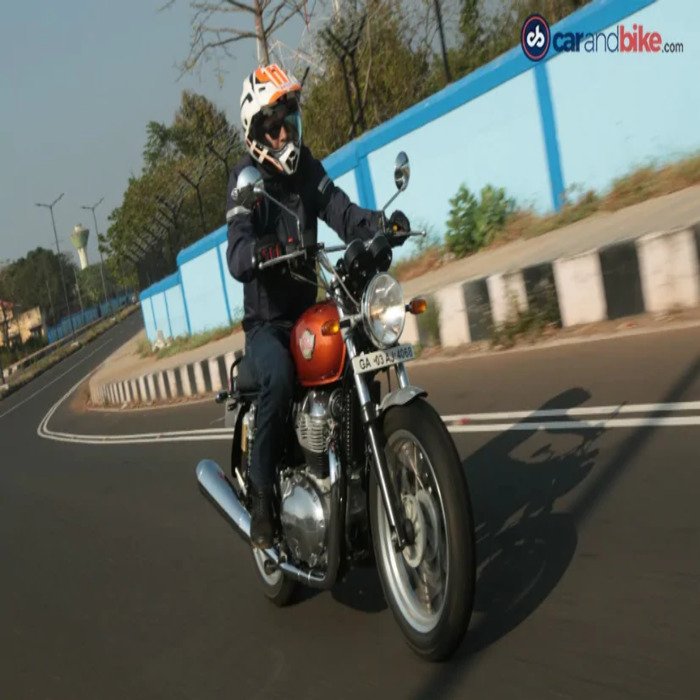h: (238, 63, 307, 177)
n: (349, 342, 417, 376)
